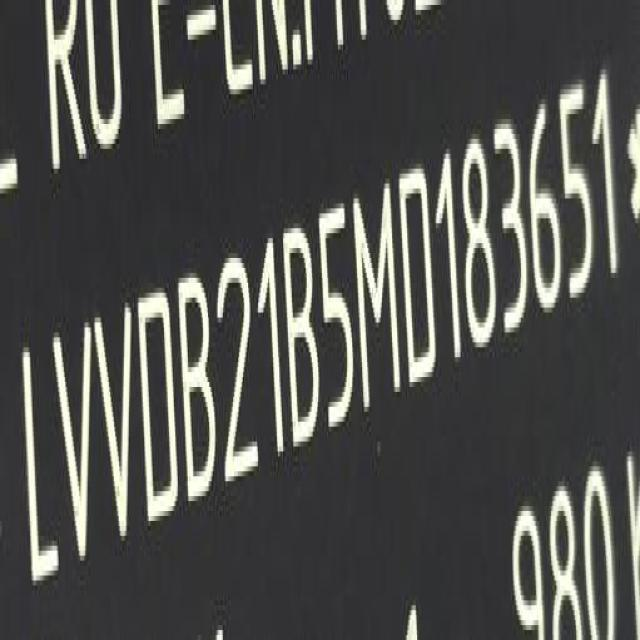1: (260, 239, 288, 468), (595, 64, 623, 290), (437, 149, 463, 366)
2: (219, 257, 258, 485)
3: (494, 123, 532, 333)
5: (320, 196, 361, 431), (560, 69, 596, 303)
6: (528, 90, 565, 320)
8: (460, 135, 496, 355)
B: (179, 270, 221, 498), (286, 219, 325, 452)
D: (135, 285, 177, 525), (399, 165, 439, 388)
L: (18, 335, 58, 589)
M: (359, 179, 406, 413)
V: (51, 314, 96, 570), (96, 298, 138, 546)
